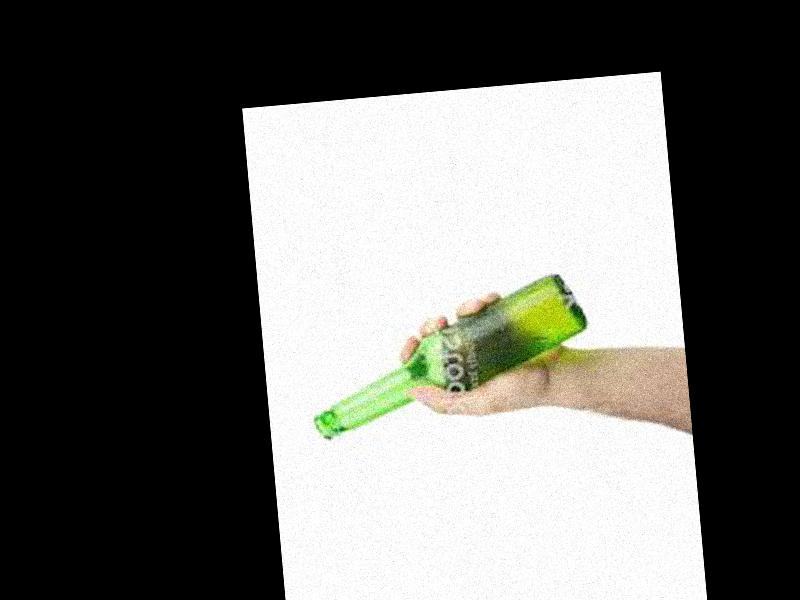Beer: (300, 271, 592, 441)
